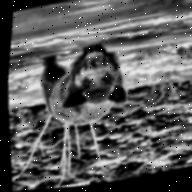boar: (34, 38, 134, 135)
